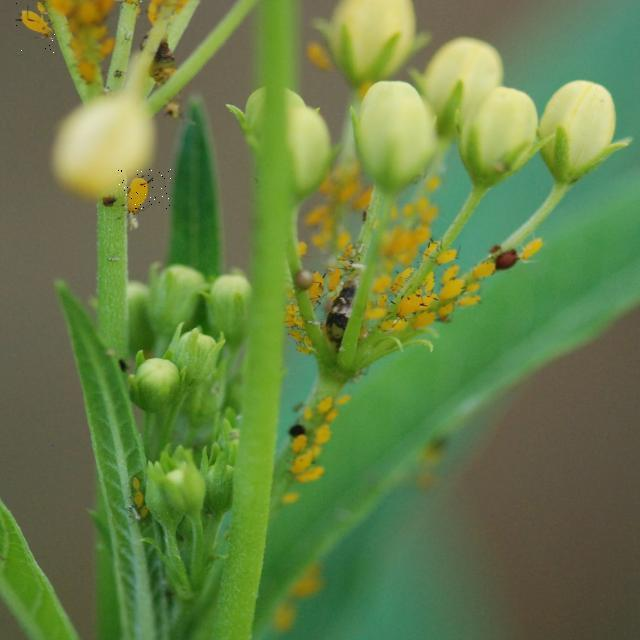aphid: (7, 0, 57, 58), (118, 170, 171, 210), (391, 266, 414, 290), (305, 205, 329, 226), (307, 276, 324, 302), (471, 261, 495, 279), (441, 264, 460, 286), (336, 230, 352, 254), (313, 424, 331, 445), (327, 267, 341, 293), (435, 248, 457, 264), (117, 168, 124, 174)
